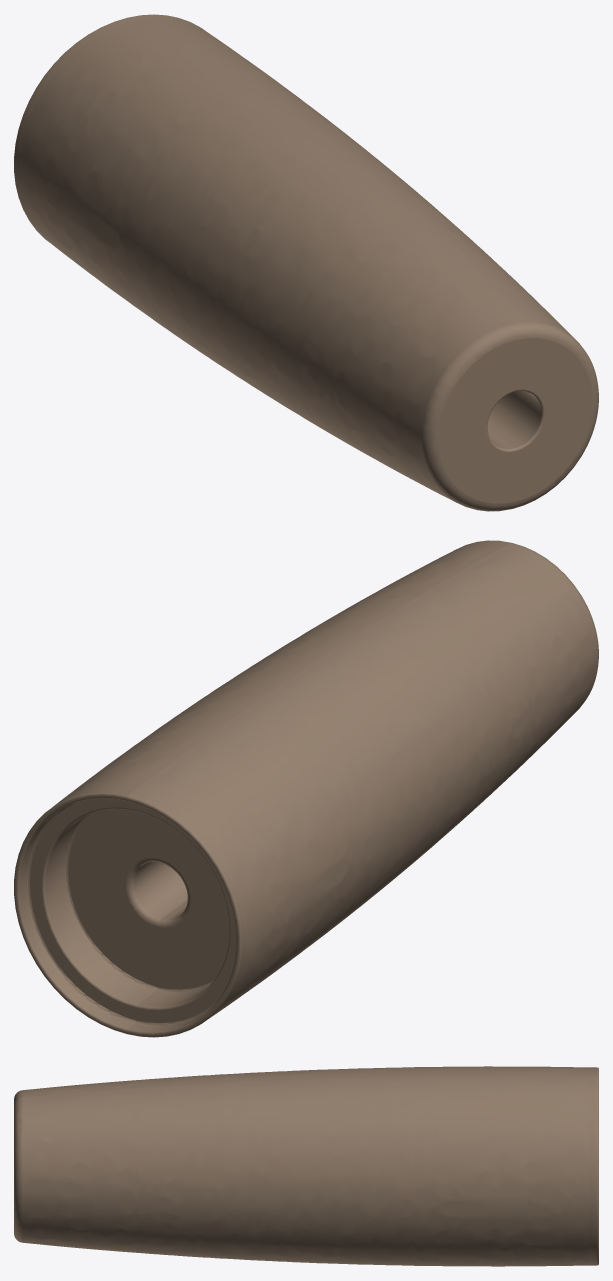
File: 281242_DECOMPRESSION CONE TOOL.fbx
The picture shows the model from 3 angles, top to bottom: view 1: azimuth 30°, elevation 25°; view 2: azimuth 150°, elevation 25°; view 3: azimuth 270°, elevation 25°; orthographic projection. The views are drawn at different scales.
Parts seen in each view (by area): view 1: meshes[0]; view 2: meshes[0]; view 3: meshes[0].
Part boxes in pixels (x1,y1,x2,y2): meshes[0]: (14,14,598,511); meshes[0]: (14,540,598,1037); meshes[0]: (14,1066,598,1266).
Bounding box in the file's own units: 21.19 × 21.19 × 62.
